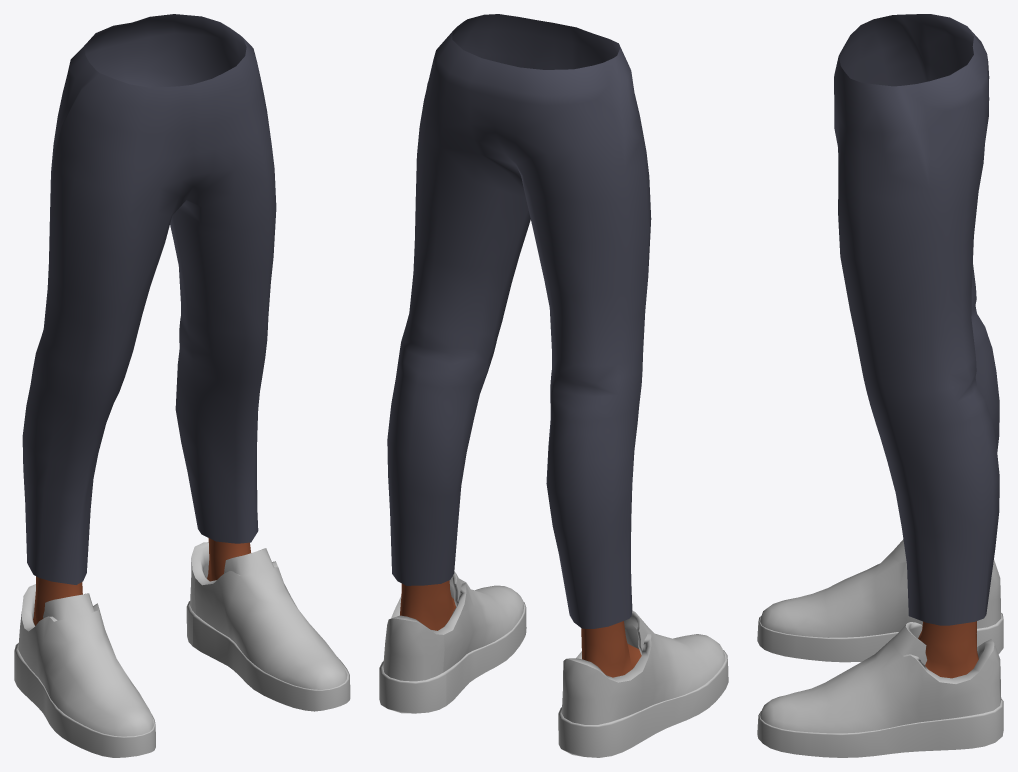
The model's file is man3_lowerBody.glb.
3 views of the same model, side by side, from view 1: azimuth 30°, elevation 25°; view 2: azimuth 150°, elevation 25°; view 3: azimuth 270°, elevation 25° (orthographic). The views are drawn at different scales.
Visible parts, largest first — view 1: Wolf3D_Outfit_Bottom.001, Wolf3D_Outfit_Footwear.001, Wolf3D_Body.004, Wolf3D_Body.001; view 2: Wolf3D_Outfit_Bottom.001, Wolf3D_Outfit_Footwear.001, Wolf3D_Body.002, Wolf3D_Body.005, Wolf3D_Body.004; view 3: Wolf3D_Outfit_Bottom.001, Wolf3D_Outfit_Footwear.001, Wolf3D_Body.005, Wolf3D_Body.004.
Boxes of the visible parts, x1,y1,x2,y2 form: Wolf3D_Outfit_Bottom.001: (22,14,276,584); Wolf3D_Outfit_Footwear.001: (14,542,350,757); Wolf3D_Body.004: (208,538,250,580); Wolf3D_Body.001: (35,578,82,623); Wolf3D_Outfit_Bottom.001: (387,14,651,628); Wolf3D_Outfit_Footwear.001: (379,571,728,757); Wolf3D_Body.002: (581,622,625,677); Wolf3D_Body.005: (400,583,435,630); Wolf3D_Body.004: (434,580,454,630); Wolf3D_Outfit_Bottom.001: (834,14,999,625); Wolf3D_Outfit_Footwear.001: (757,539,1003,757); Wolf3D_Body.005: (949,621,978,677); Wolf3D_Body.004: (918,621,951,677).
Bounding box in the file's own units: 4.59 × 10.39 × 3.59.
